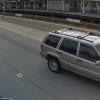Car: (34, 21, 100, 88)
